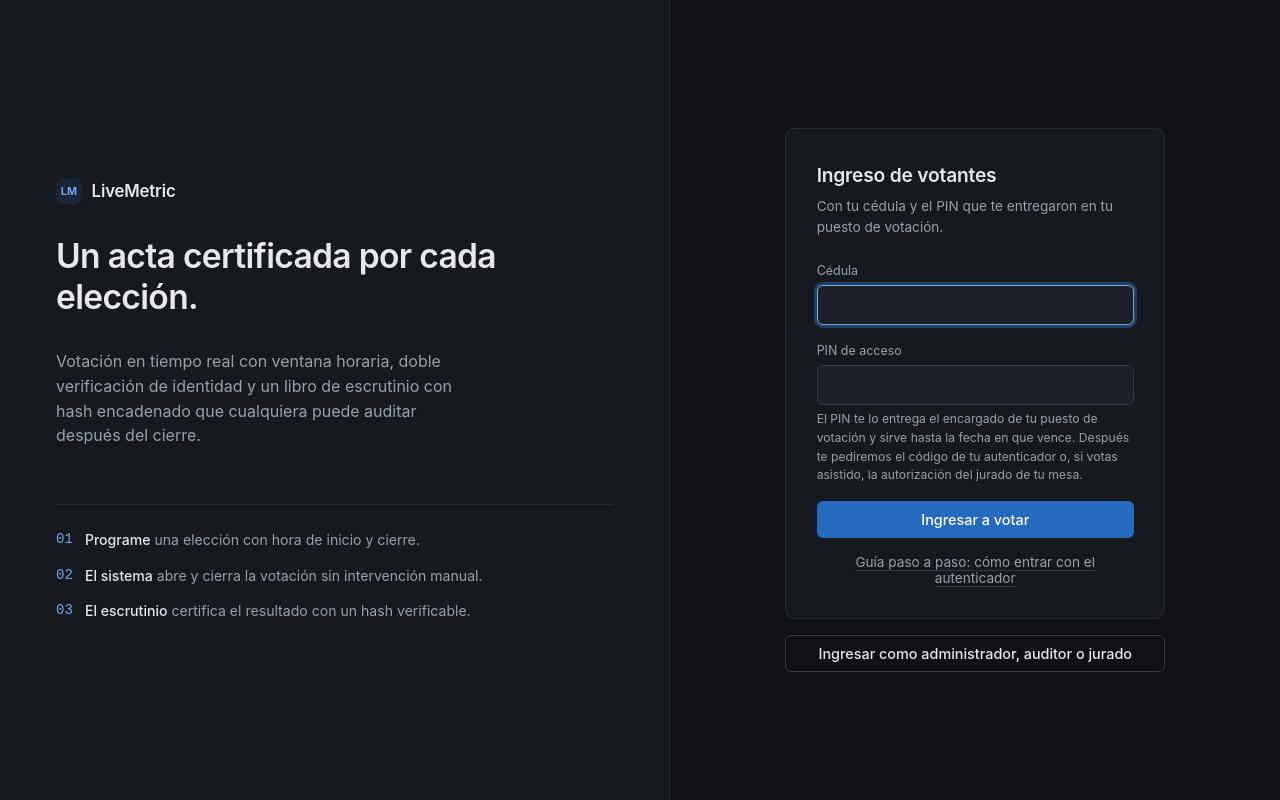
Scenario: ingreso de administrador o auditor › si el servicio rechaza el ingreso, muestra el motivo y no abre sesión
This screenshot has width=1280, height=800.
Click the button "Ingresar como administrador, auditor o jurado" at {"x": 975, "y": 653}, box [785, 635, 1165, 672]
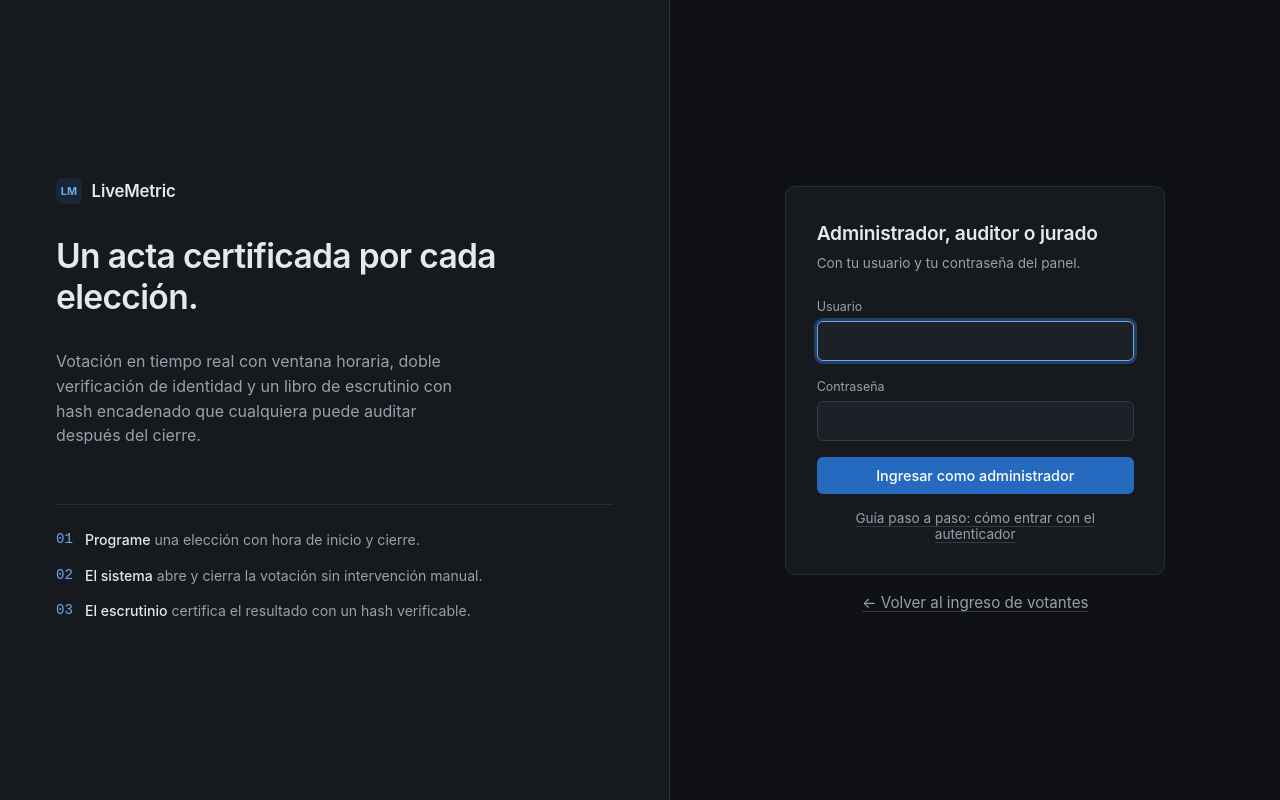
Type "ana" into the field labelled "Usuario" at {"x": 975, "y": 341}, box [817, 321, 1134, 361]
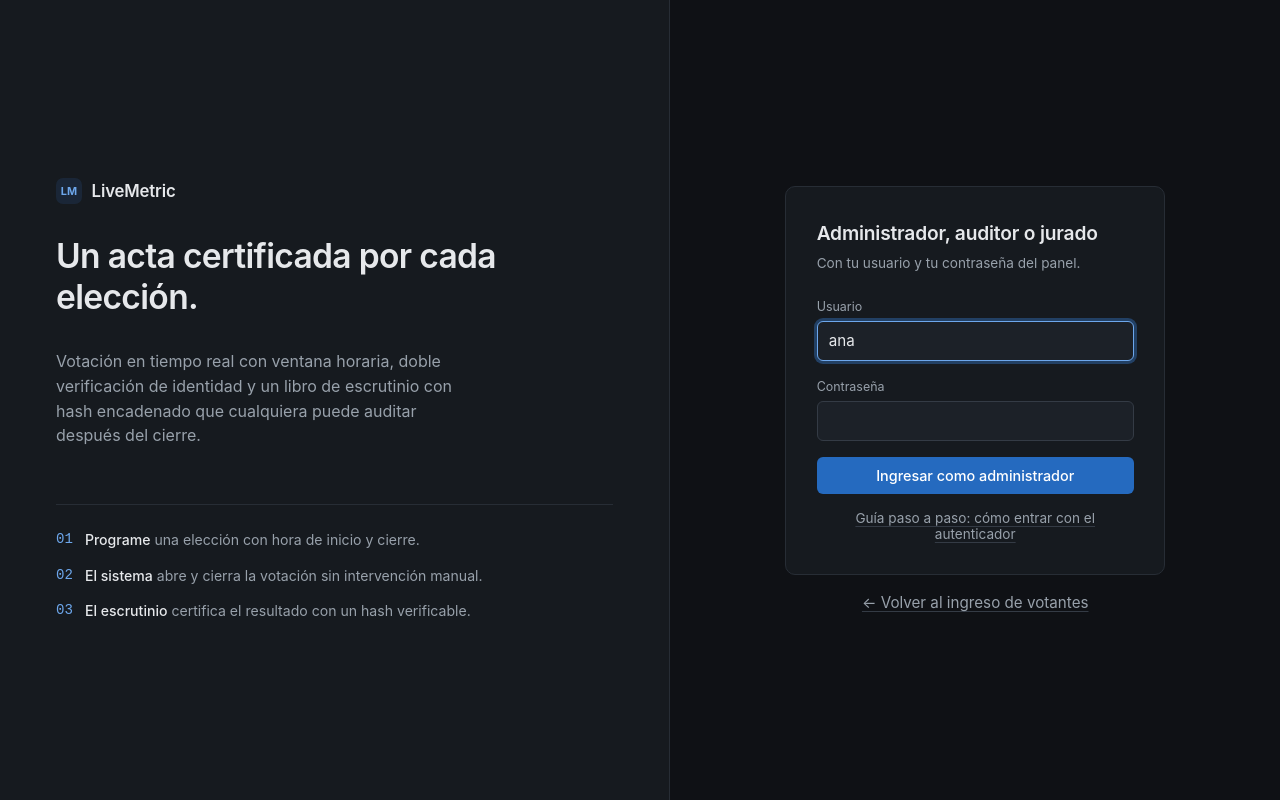
Type "equivocada" into the password field labelled "Contraseña" at {"x": 975, "y": 421}, box [817, 401, 1134, 441]
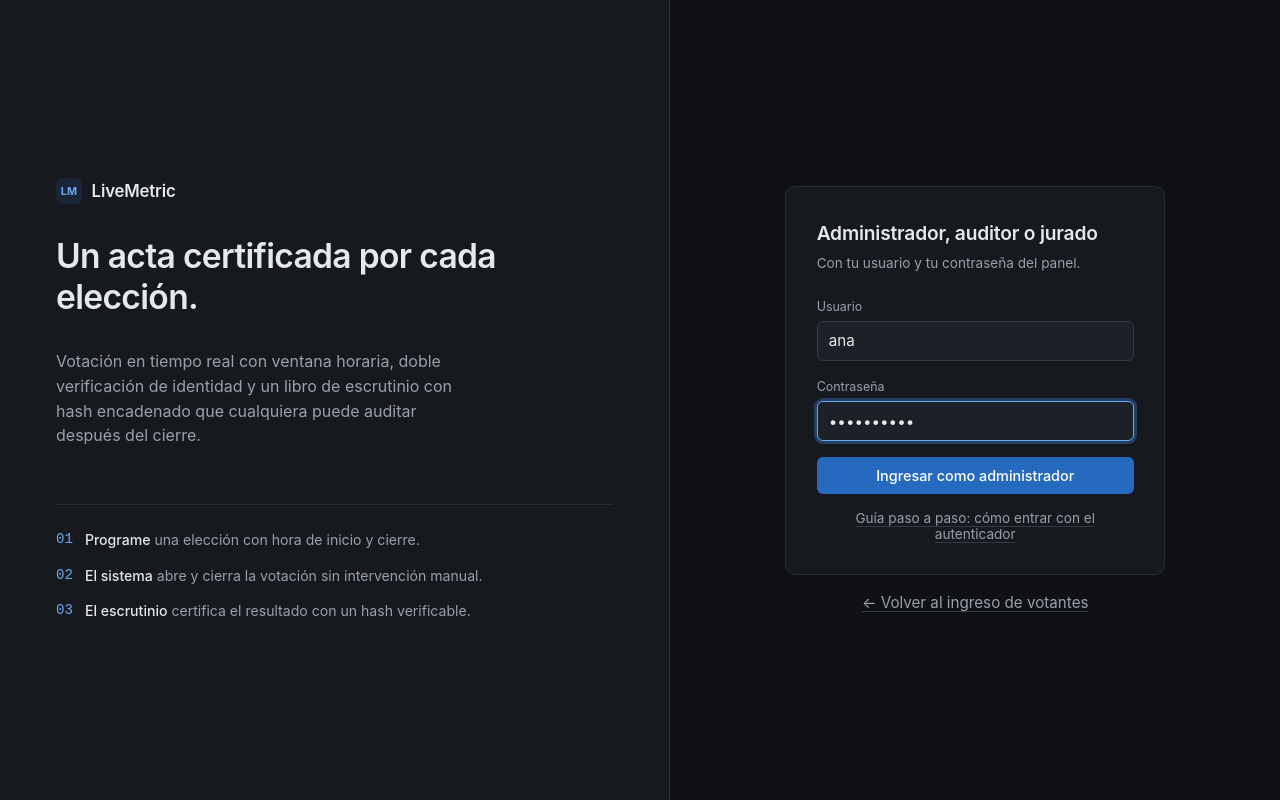
Click the button "Ingresar como administrador" at {"x": 975, "y": 476}, box [817, 457, 1134, 494]
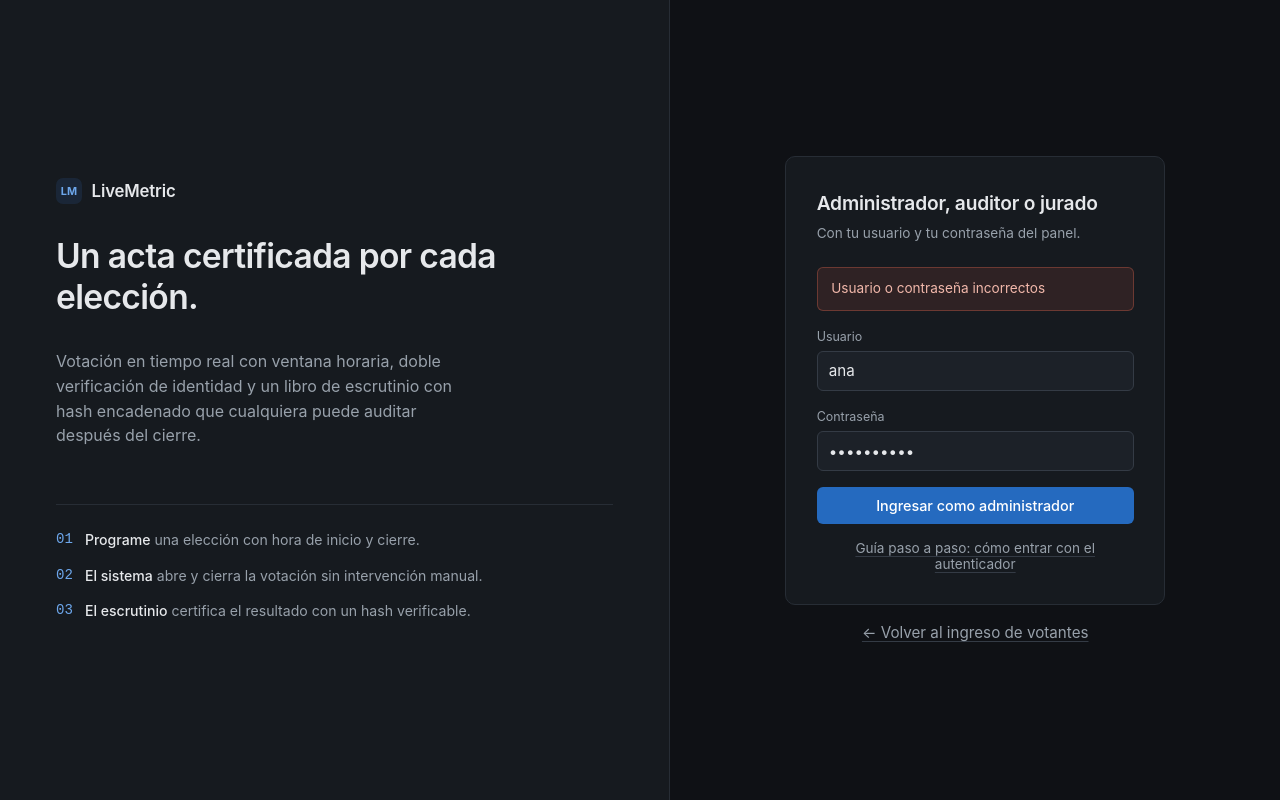
Check: the button "Ingresar como administrador" is enabled, box [817, 487, 1134, 524]
Check: the text "Usuario o contraseña incorrectos" is shown, box [817, 267, 1134, 311]
